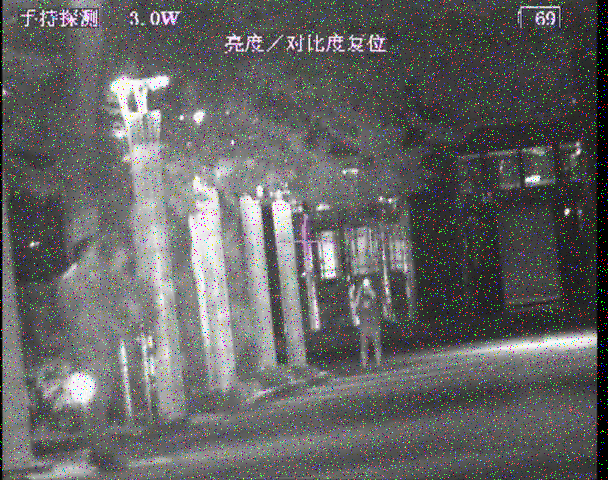my: (361, 276, 370, 287)
